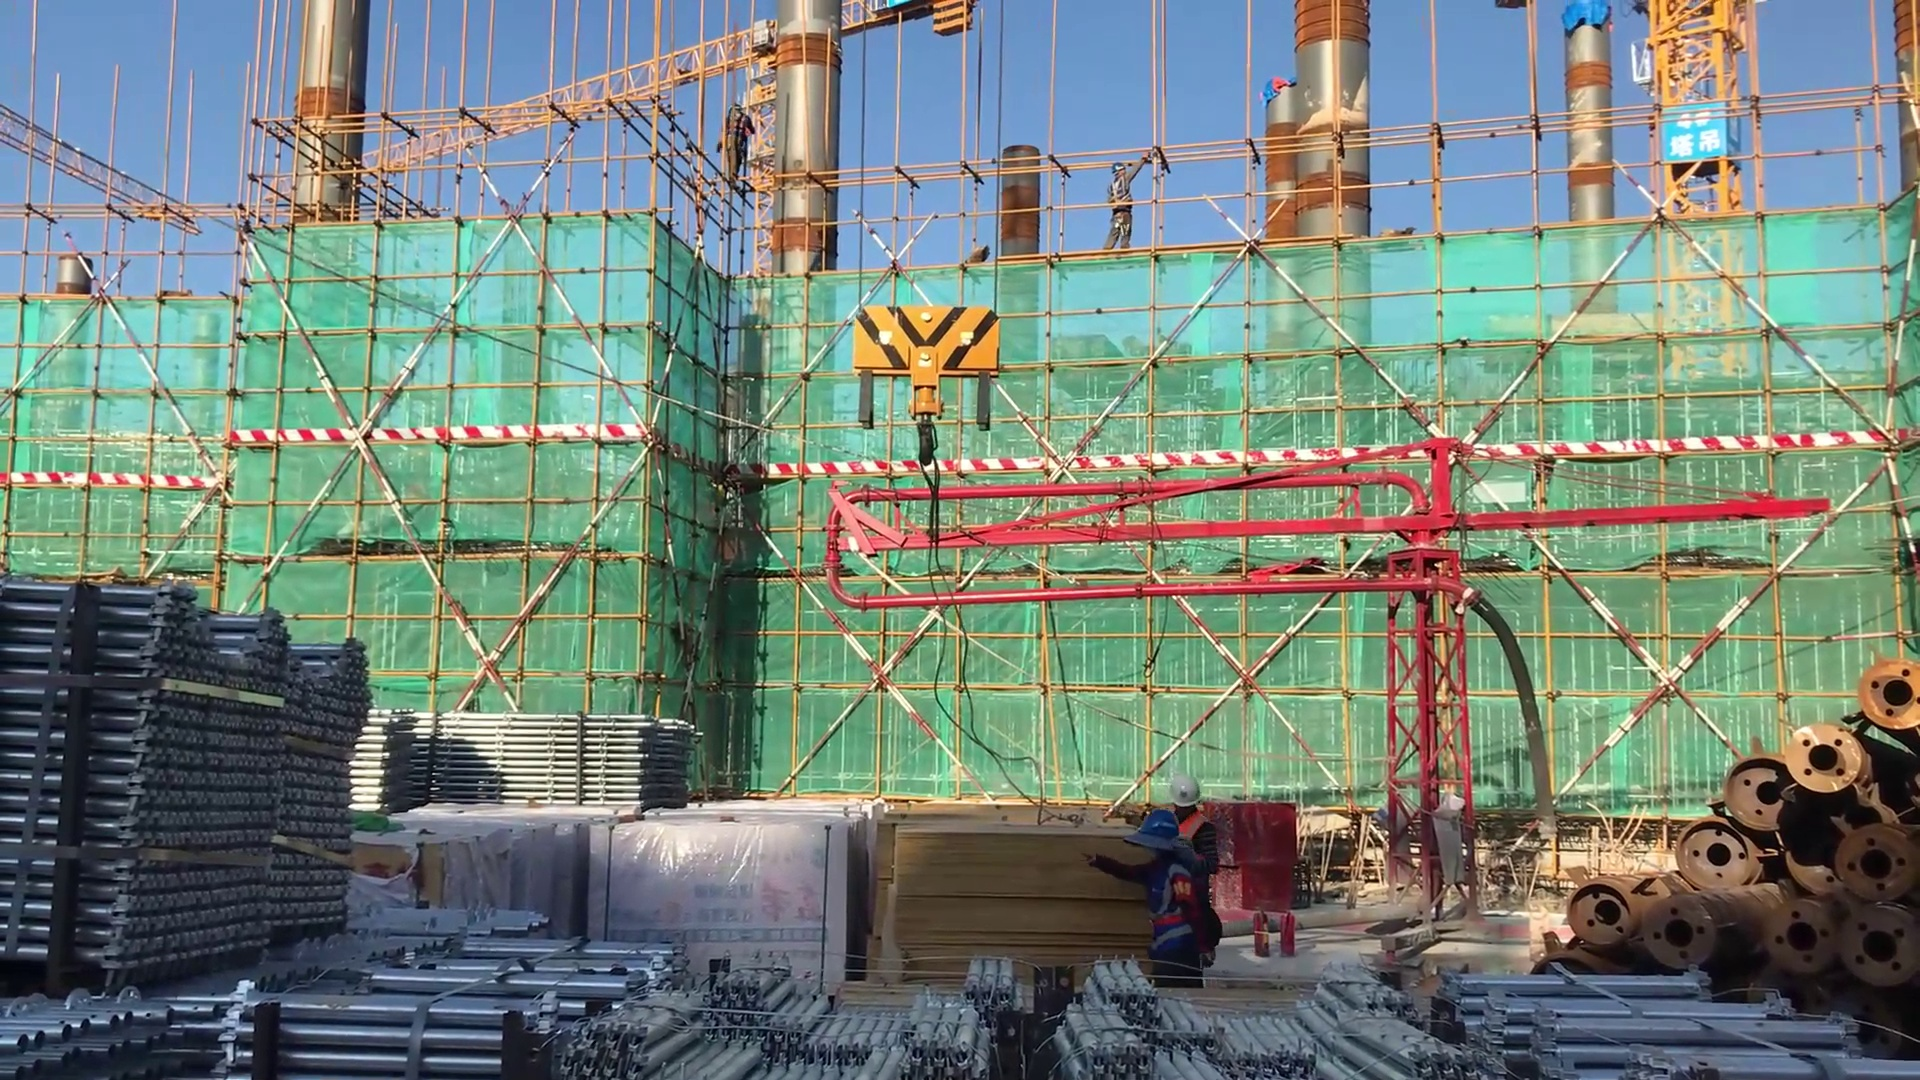board: (881, 820, 1144, 966)
helmet: (1166, 765, 1208, 824), (1138, 805, 1191, 852), (1110, 161, 1127, 174)
hook: (831, 284, 1023, 489)
person: (1077, 811, 1222, 1005), (1167, 756, 1228, 941), (1099, 146, 1171, 253)
scaffold: (1, 570, 361, 978), (8, 901, 527, 1080), (516, 921, 966, 1080), (1438, 964, 1828, 1080), (334, 705, 701, 814), (1064, 954, 1330, 1080), (1296, 961, 1492, 1080)
slogan: (1663, 106, 1730, 163)
vest: (1142, 860, 1209, 964), (1172, 811, 1209, 846), (1105, 176, 1134, 214)
